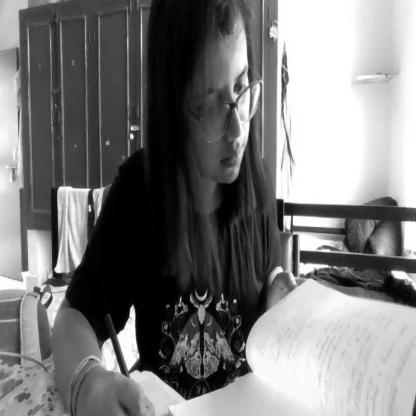Distracted: (152, 0, 256, 201)
